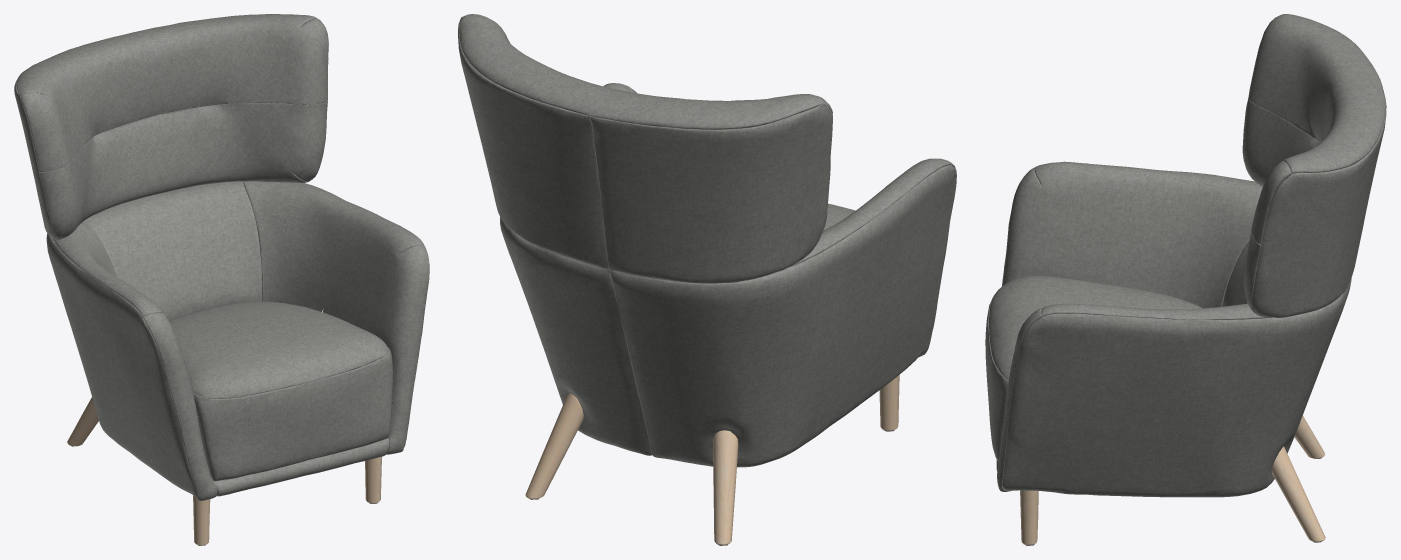
The model's file is oskarshamn_fotel_uszak_20523611.glb.
3 views of the same model, side by side, from view 1: azimuth 30°, elevation 25°; view 2: azimuth 150°, elevation 25°; view 3: azimuth 270°, elevation 25° (orthographic). The views are drawn at different scales.
Visible parts, largest first — view 1: oskarshamn_fotel_uszak_20523611; view 2: oskarshamn_fotel_uszak_20523611; view 3: oskarshamn_fotel_uszak_20523611.
Boxes of the visible parts, x1,y1,x2,y2 form: oskarshamn_fotel_uszak_20523611: (14,14,429,545); oskarshamn_fotel_uszak_20523611: (458,14,956,545); oskarshamn_fotel_uszak_20523611: (985,14,1386,545).
Bounding box in the file's own units: 0.8354 × 0.9941 × 0.8799.
Materials: 1 (1 with a texture image).
